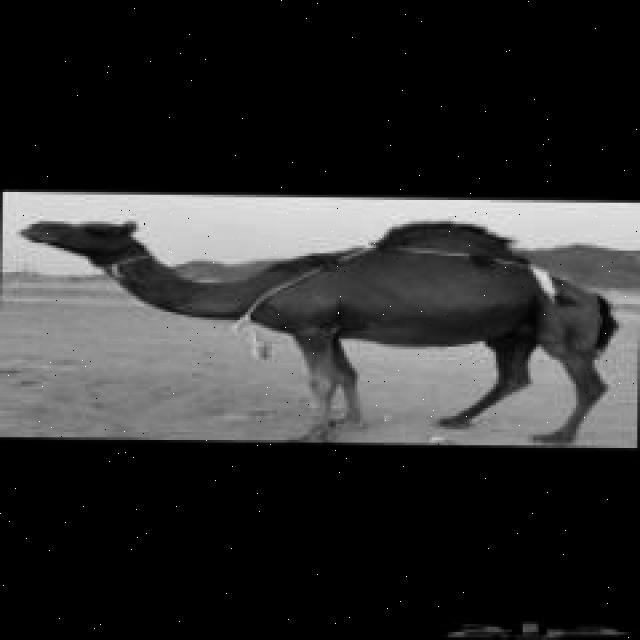Camel: (19, 216, 618, 443)
